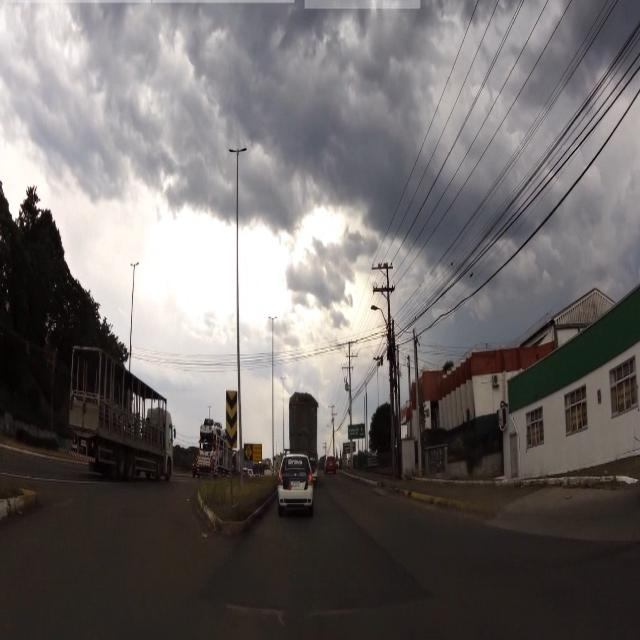MP: (225, 389, 240, 448)
